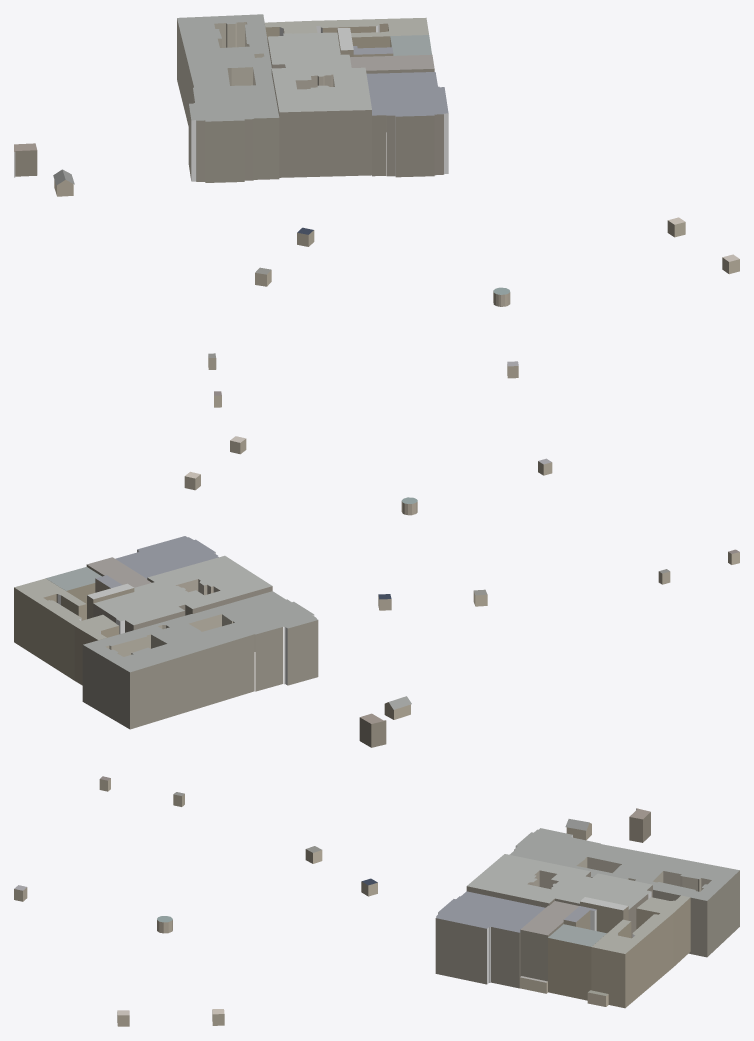
3 renders of one model, top to bottom at view 1: azimuth 30°, elevation 25°; view 2: azimuth 150°, elevation 25°; view 3: azimuth 270°, elevation 25°, orthographic. The views are drawn at different scales.
Visible parts, largest first — view 1: tuile; view 2: tuile; view 3: tuile.
Boxes of the visible parts, box(x1,y1,x2,y2) form: tuile: box(14, 14, 739, 407); tuile: box(14, 436, 739, 747); tuile: box(14, 776, 739, 1026).
Bounding box in the file's own units: 225 × 30.12 × 288.
